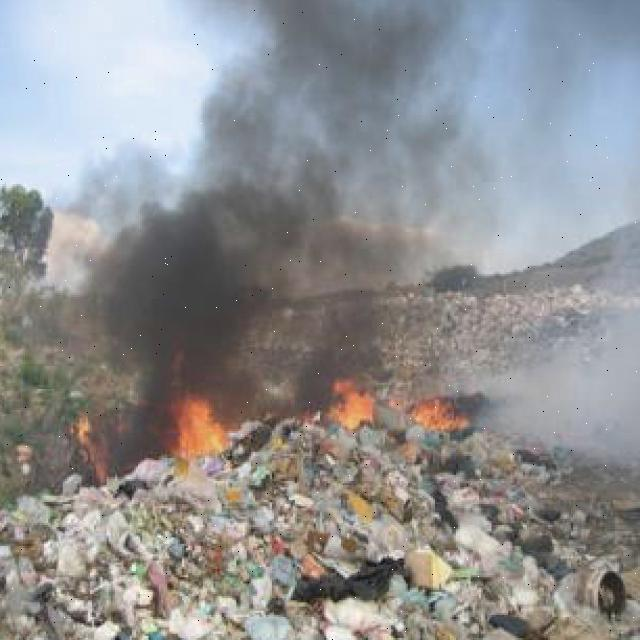fire: (174, 394, 232, 466), (73, 406, 117, 481), (408, 391, 470, 441), (328, 378, 378, 431)
smoke: (57, 15, 458, 374), (475, 182, 640, 454)
